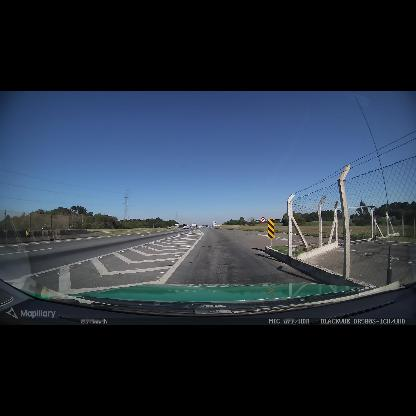O-MP: (268, 218, 275, 239)
R-6c: (261, 217, 266, 222)
